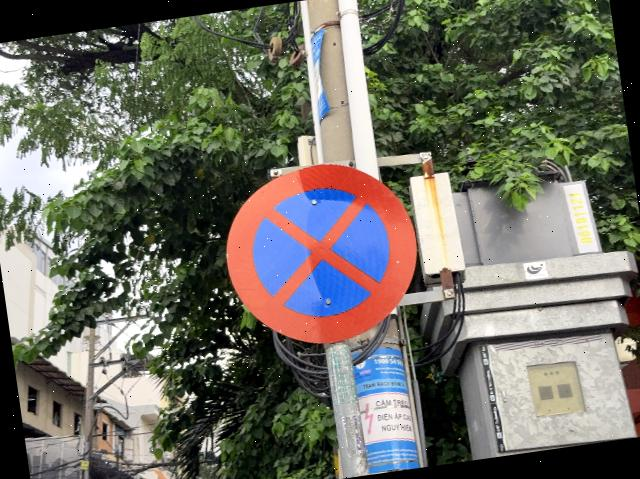cam-dung-va-do-xe: (212, 149, 430, 360)
